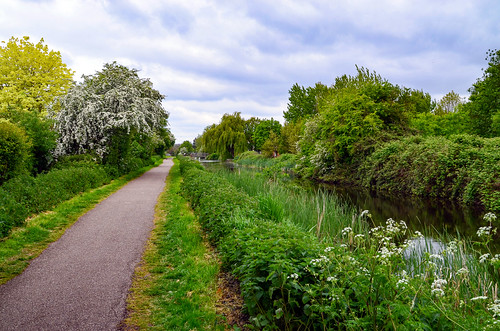river: (208, 161, 500, 309)
road: (20, 158, 188, 331)
sky: (45, 1, 482, 85)
vegetation: (195, 85, 500, 188), (1, 50, 163, 214)
